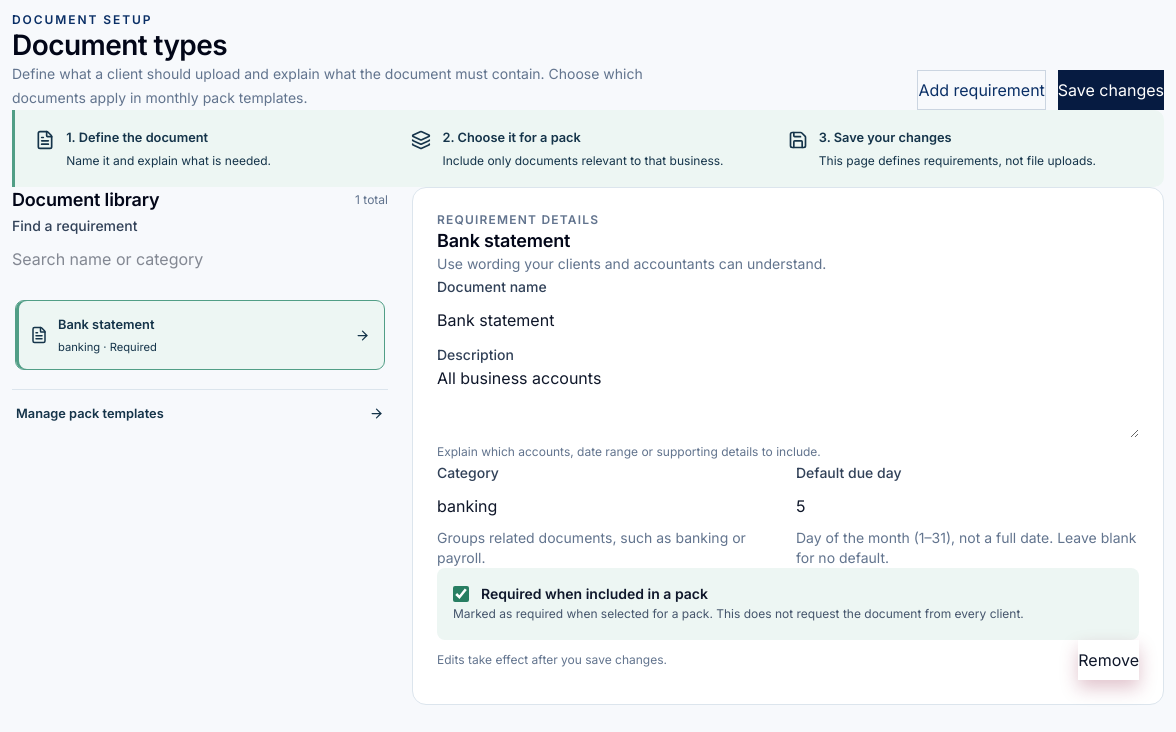
Test: admin required documents › keeps existing template IDs and saves through the existing backend endpoint
Check: the button "Save changes" is disabled, box [1058, 70, 1164, 110]
Replace the text in the field showing "Bank statement" with "Business bank statement" at (788, 320), box [437, 298, 1139, 342]
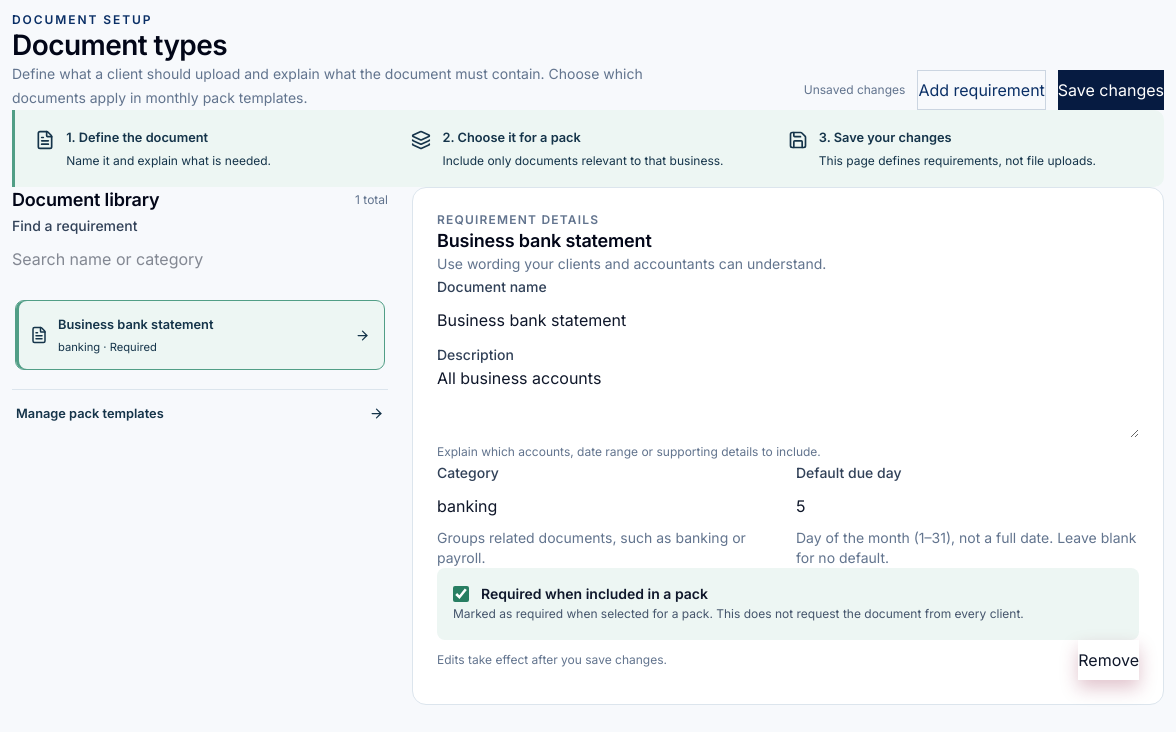
Click the button "Save changes" at (1111, 90), box [1058, 70, 1164, 110]
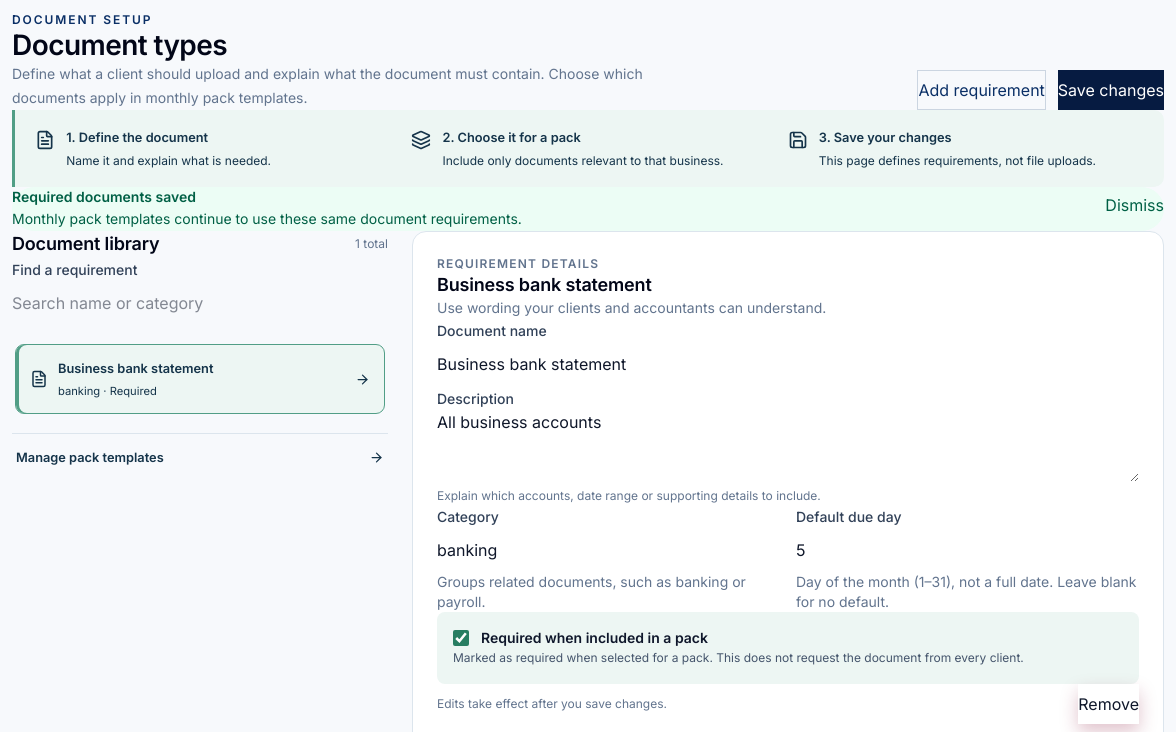
Check: the text "Required documents saved" is shown, box [12, 188, 196, 205]
